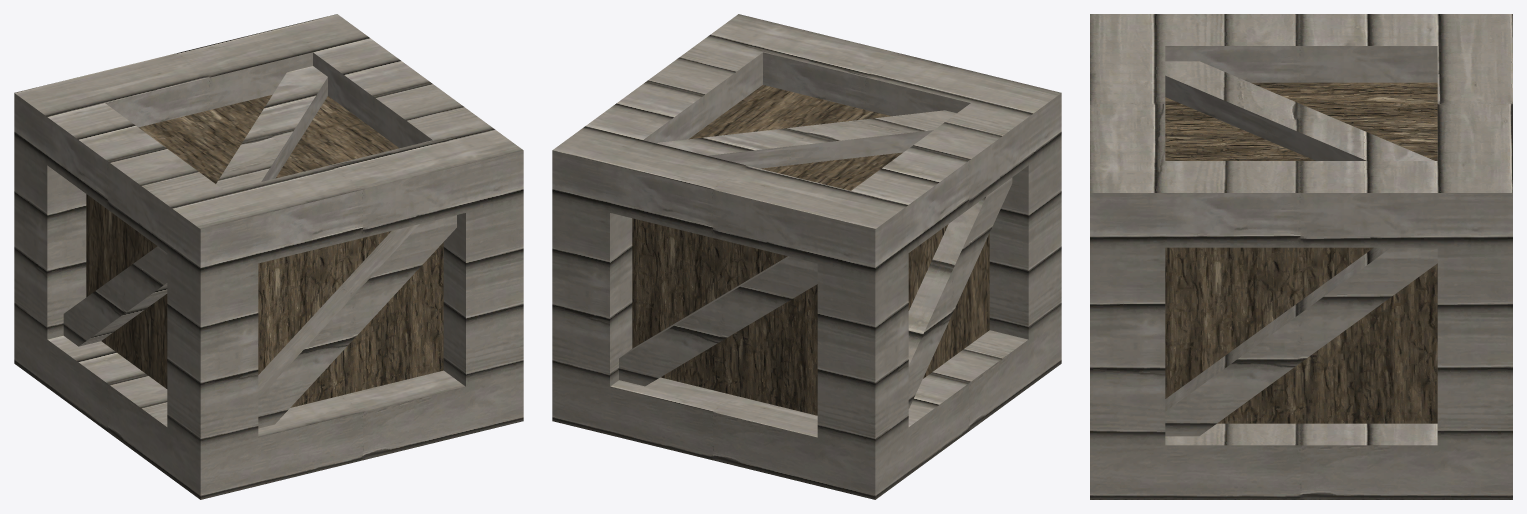
File: Crate.fbx
The picture shows the model from 3 angles, left to right: view 1: azimuth 30°, elevation 25°; view 2: azimuth 150°, elevation 25°; view 3: azimuth 270°, elevation 25°; orthographic projection. The views are drawn at different scales.
Visible parts, largest first — view 1: mergedBlocks; view 2: mergedBlocks; view 3: mergedBlocks.
Boxes of the visible parts, x1,y1,x2,y2 form: mergedBlocks: (14, 14, 523, 499); mergedBlocks: (552, 14, 1061, 499); mergedBlocks: (1090, 14, 1512, 499).
Size of the model in its own units: 9.9 by 7.92 by 9.89.
